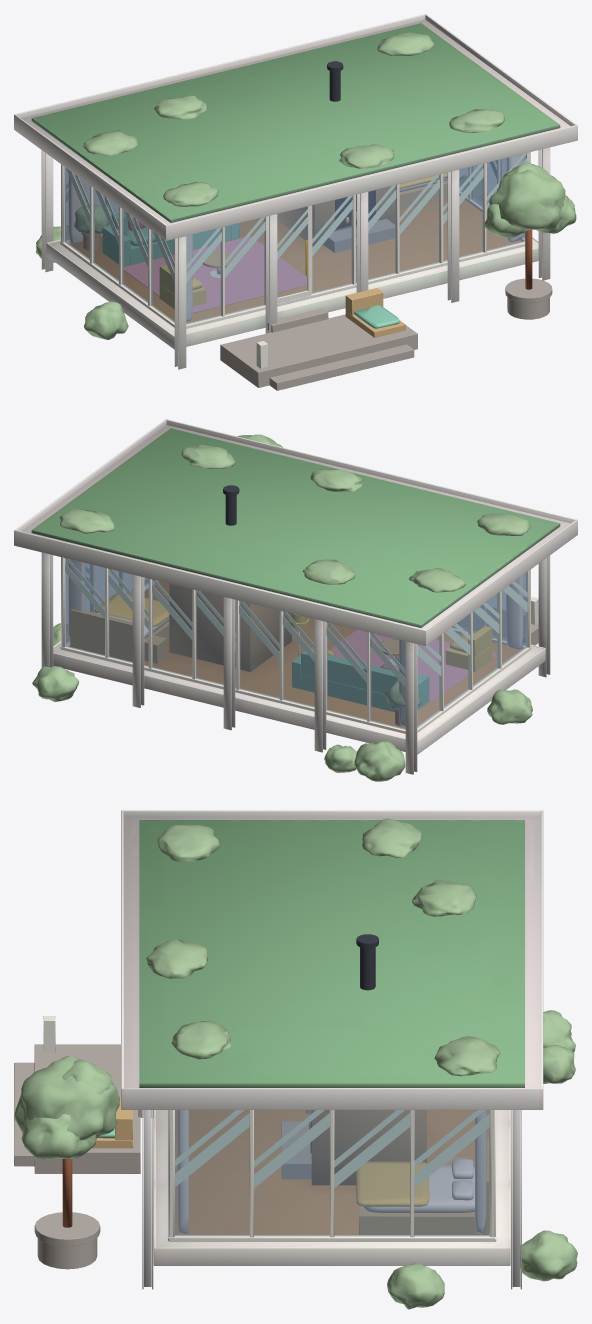
The model's file is glass-house-2c834584.glb.
3 views of the same model, one above another, from view 1: azimuth 30°, elevation 25°; view 2: azimuth 150°, elevation 25°; view 3: azimuth 270°, elevation 25° (orthographic). The views are drawn at different scales.
Visible parts, largest first — view 1: glass-house_body, glass-house_details, glass-house_door_l; view 2: glass-house_body, glass-house_details, glass-house_door_l; view 3: glass-house_body, glass-house_details, glass-house_door_l.
Part boxes in pixels (x1,y1,x2,y2): glass-house_body: (14, 14, 577, 369); glass-house_details: (36, 32, 576, 390); glass-house_door_l: (64, 154, 526, 324); glass-house_body: (14, 419, 577, 774); glass-house_details: (32, 434, 538, 781); glass-house_door_l: (65, 559, 527, 729); glass-house_body: (121, 810, 543, 1289); glass-house_details: (14, 818, 577, 1309); glass-house_door_l: (174, 1110, 489, 1235).
Bounding box in the file's own units: 11.95 × 4.83 × 9.48.
3 materials, 3 textured.
